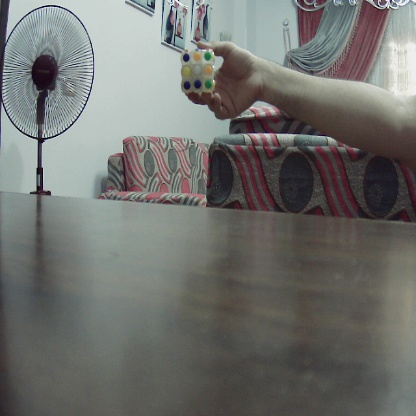Rubix Cube: (179, 50, 218, 92)
